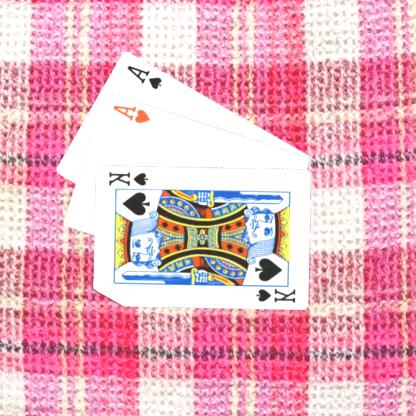AH: (112, 102, 153, 124)
AS: (126, 62, 165, 91)
KS: (251, 281, 298, 304), (107, 168, 151, 187)
